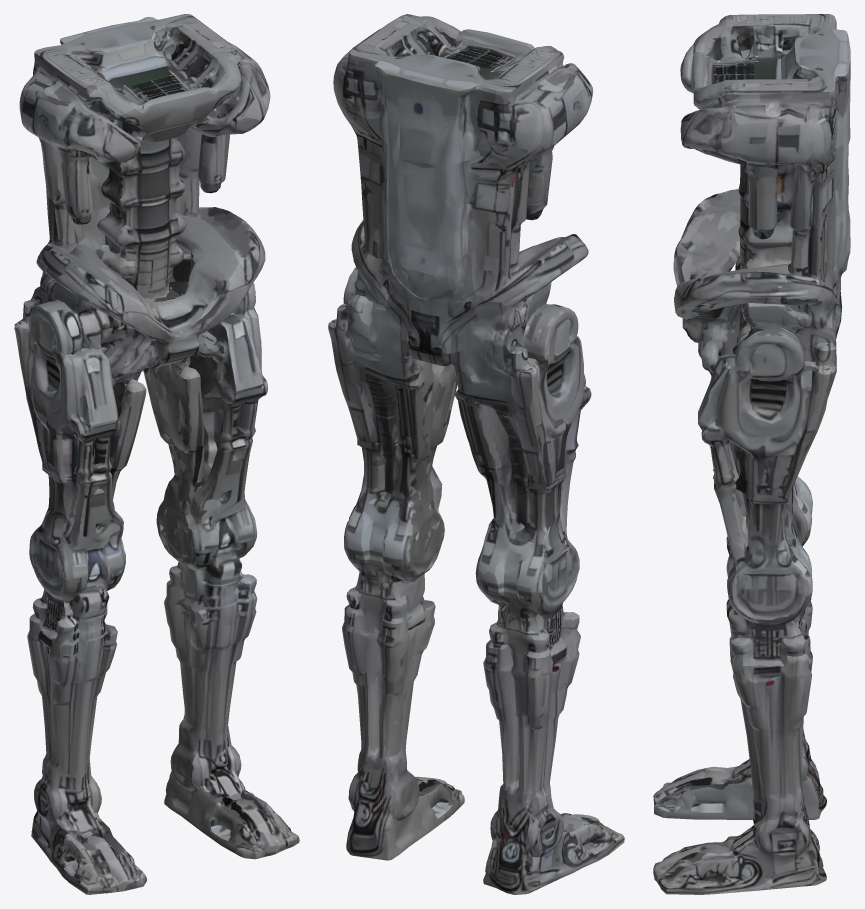
Rendered from robot-terminator.glb.
The picture shows the model from 3 angles, left to right: view 1: azimuth 30°, elevation 25°; view 2: azimuth 150°, elevation 25°; view 3: azimuth 270°, elevation 25°; orthographic projection. The views are drawn at different scales.
Visible parts, largest first — view 1: textured.obj; view 2: textured.obj; view 3: textured.obj.
Boxes of the visible parts, <box> form: textured.obj: <box>14,14,299,894</box>; textured.obj: <box>328,14,624,894</box>; textured.obj: <box>653,14,850,894</box>.
Bounding box in the file's own units: 0.5753 × 1.99 × 0.4498.
1 material, 1 textured.
